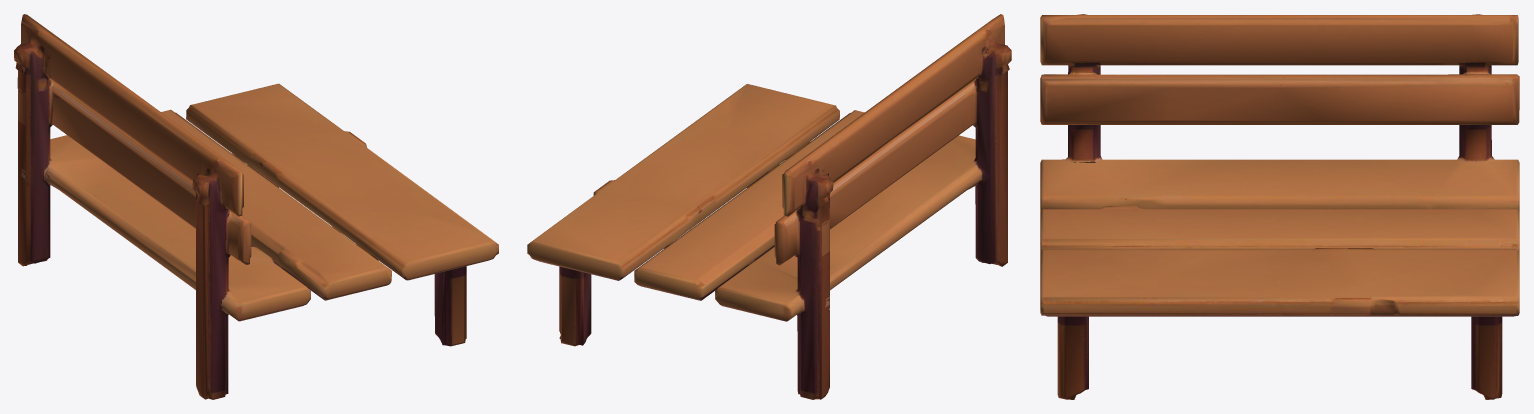
The model's file is demo_bench_pixel.glb.
The picture shows the model from 3 angles, left to right: view 1: azimuth 30°, elevation 25°; view 2: azimuth 150°, elevation 25°; view 3: azimuth 270°, elevation 25°; orthographic projection. The views are drawn at different scales.
Parts seen in each view (by area): view 1: tripo_node_aa689e89-bcfb-4479-b806-eb0eff183945.001; view 2: tripo_node_aa689e89-bcfb-4479-b806-eb0eff183945.001; view 3: tripo_node_aa689e89-bcfb-4479-b806-eb0eff183945.001.
Boxes of the visible parts, x1,y1,x2,y2 form: tripo_node_aa689e89-bcfb-4479-b806-eb0eff183945.001: (14,14,498,399); tripo_node_aa689e89-bcfb-4479-b806-eb0eff183945.001: (527,14,1011,399); tripo_node_aa689e89-bcfb-4479-b806-eb0eff183945.001: (1040,14,1519,399).
Bounding box in the file's own units: 0.7536 × 0.5922 × 0.9998.
Materials: 1 (1 with a texture image).
